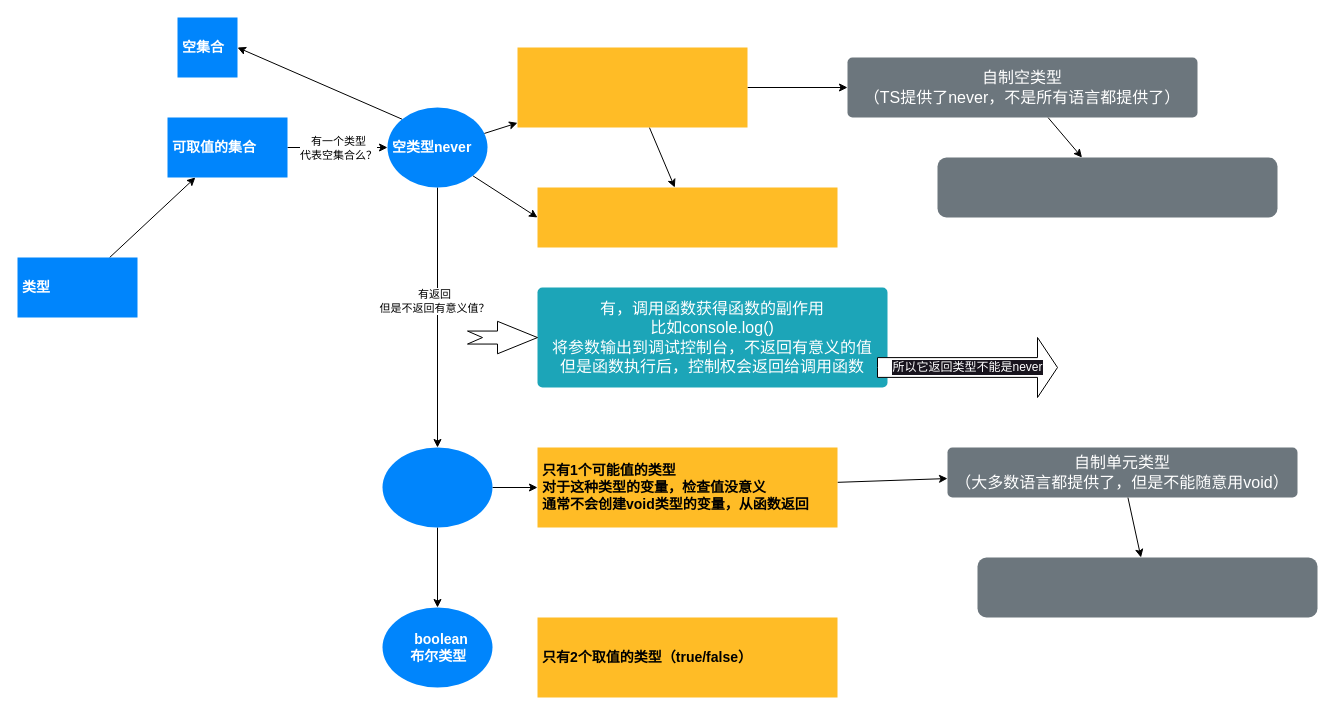
Image size: 1334x714. Some labels were removed from this diagram. The shapes that lost their labels are listed below. From the top down, each one's box as (x1, y1, x2, y2) in pixels, then its label:
(517, 47, 747, 127): 定义一个这样的函数 给定一个消息，记录错误 也就是抛出错误 throw new Error() 这个函数返回的就是never
(937, 157, 1277, 217): 1.定义一个枚举，不在其中定义任何元素 2.定义一个结构，使其只有一个私有构造函数 （代码在下面👇）
(537, 187, 837, 247): 这个函数从不返回（抛出异常/无限循环） 任何值都无法赋值给never（不可赋值类型） 无法实例化never类型的变量
(382, 447, 492, 527): void 单元类型
(977, 557, 1317, 617): 1.定义一个枚举，只有一个元素 2.定义一个没有状态的单例 （代码在下面👇）
